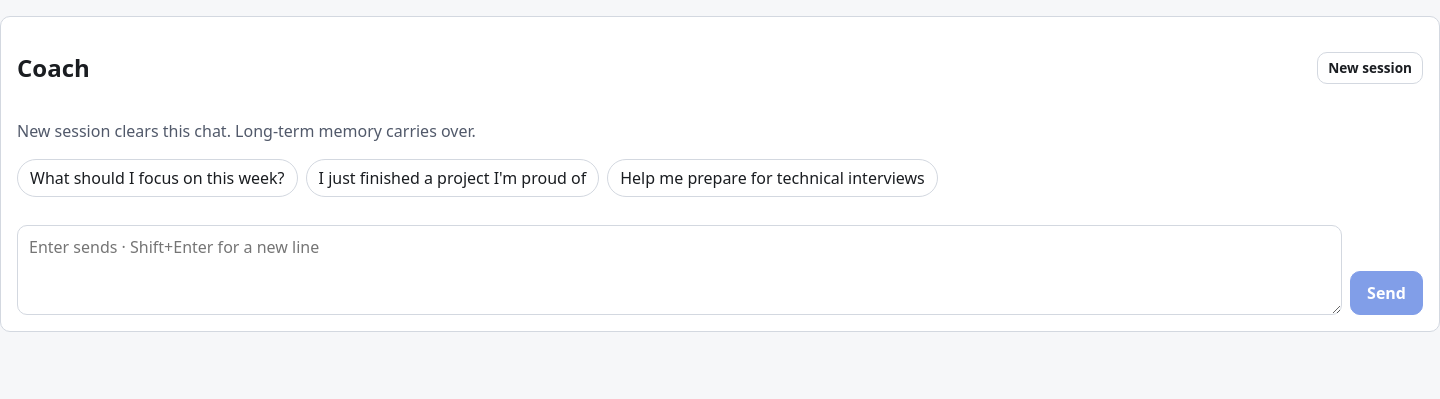
it: CoachPanel › Retry resends the failed message without adding it twice
This screenshot has width=1440, height=399.
Type "Help me plan my week" into the text box named "Message the coach" at (680, 270), box x1=17 y1=225 x2=1342 y2=315
Then press Enter
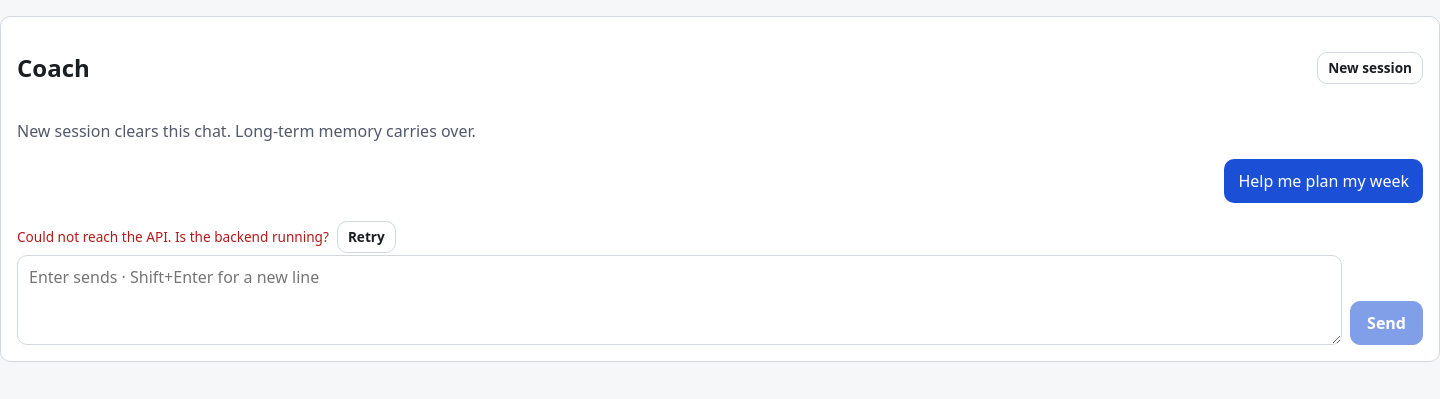
Check: the text "Could not reach the API. Is the backend running?" is shown, box x1=17 y1=227 x2=329 y2=247
Click the button "Retry" at (366, 237), box x1=337 y1=221 x2=396 y2=253
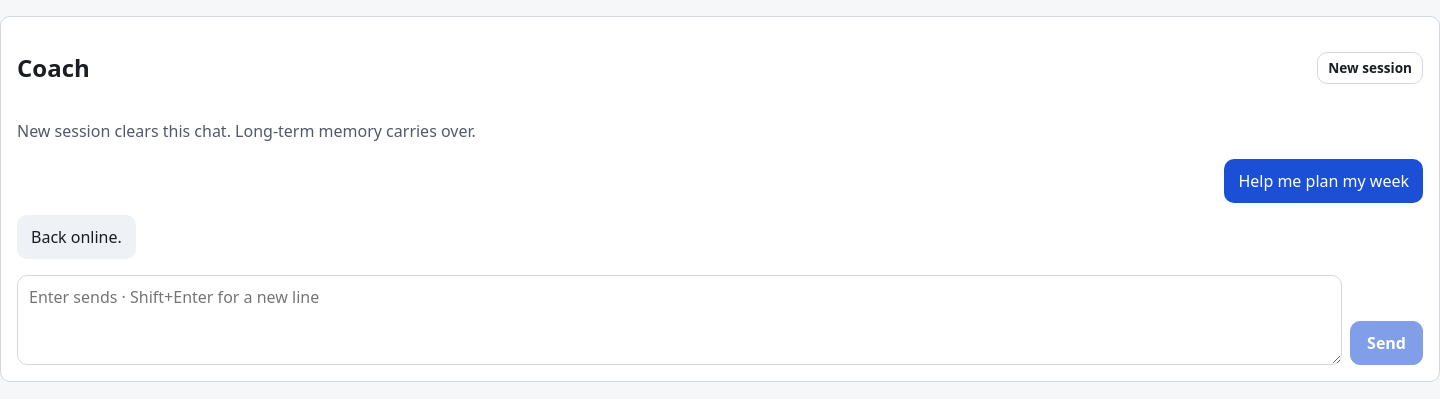
Check: the text "Back online." is shown, box x1=17 y1=215 x2=136 y2=259
Check: the text "Help me plan my week" is shown once, box x1=1224 y1=159 x2=1423 y2=203
